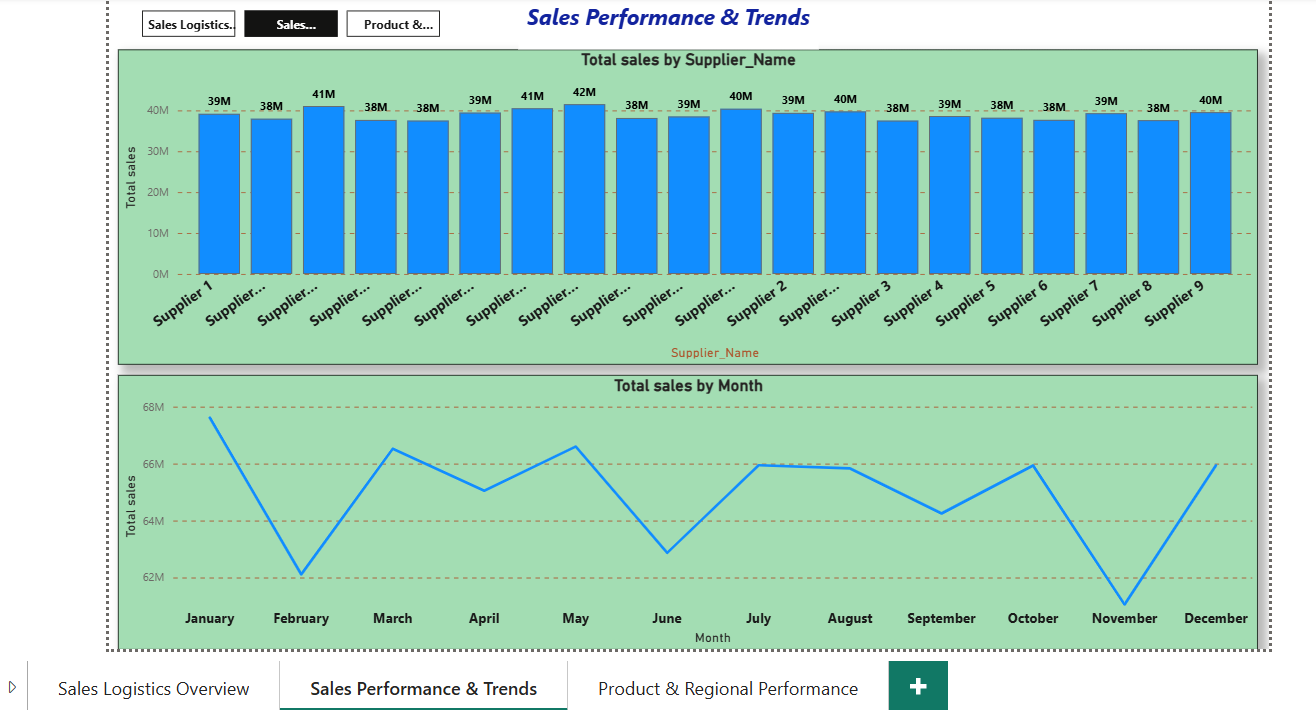

The dashboard page shown, as its layout file describes it:
{"tool":"powerbi","page":{"name":"Sales Performance & Trends","canvas":[1280,720],"ordinal":1},"visuals":[{"type":"columnChart","fields":{"Y":["dim_product.Total sales"],"Category":["dim_supplier.Supplier_Name"]},"box":[9.9,58,1258.9,347.9],"z":0},{"type":"lineChart","fields":{"Y":["dim_product.Total sales"],"Category":["dim_date.Date.Variation.Date Hierarchy.Month"]},"box":[9.9,417.4,1258.9,303.1],"z":1000},{"type":"pageNavigator","box":[36.4,14.9,331.3,29.8],"z":2000},{"type":"textbox","box":[452.2,0,331.3,58],"z":3000}]}

Visuals, with their boxes on the page's 1280x720 design canvas (x1, y1, x2, y2). These are canvas units, not pixel positions in the 1316x710 screenshot, which may show the page scaled, cropped or inside an application window:
columnChart - dim_product.Total sales x dim_supplier.Supplier_Name: [10, 58, 1269, 406]
lineChart - dim_product.Total sales x dim_date.Date.Variation.Date Hierarchy.Month: [10, 417, 1269, 720]
pageNavigator: [36, 15, 368, 45]
textbox: [452, 0, 784, 58]
